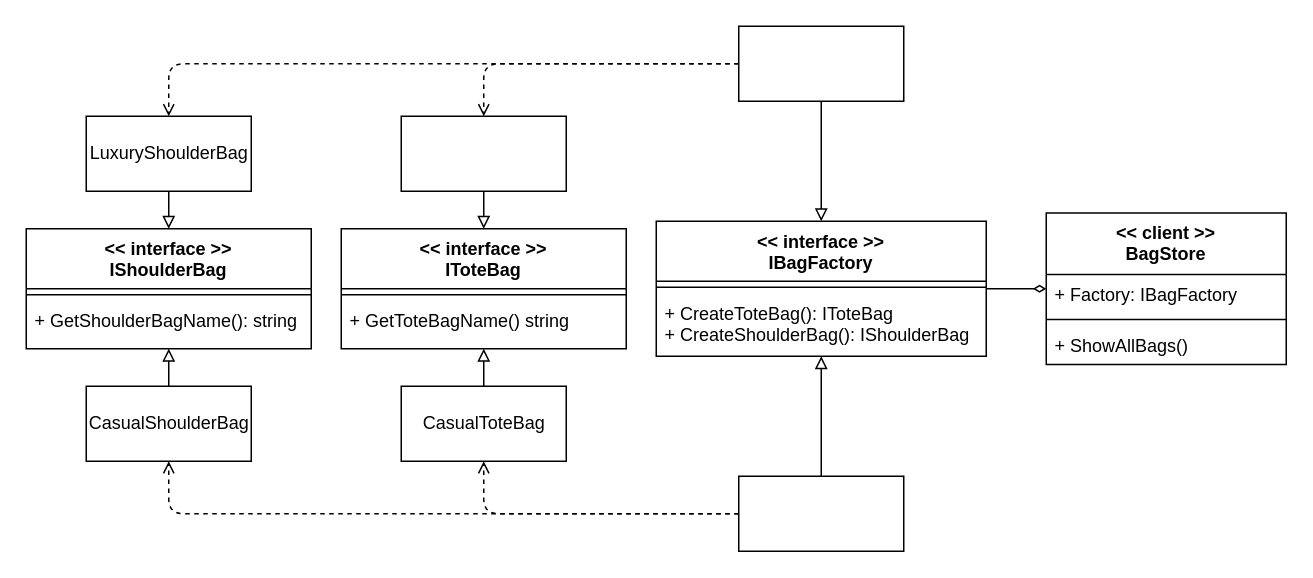
The diagram is 1313 pixels wide and 578 high, and some of its shapes have lost their labels. Here are the shapes that lost their labels. From the top down, the centre of each, then its label:
At point 820,63: "LuxuryBagFactory".
At point 483,153: "LuxuryToteBag".
At point 820,513: "CasualBagFactory".
